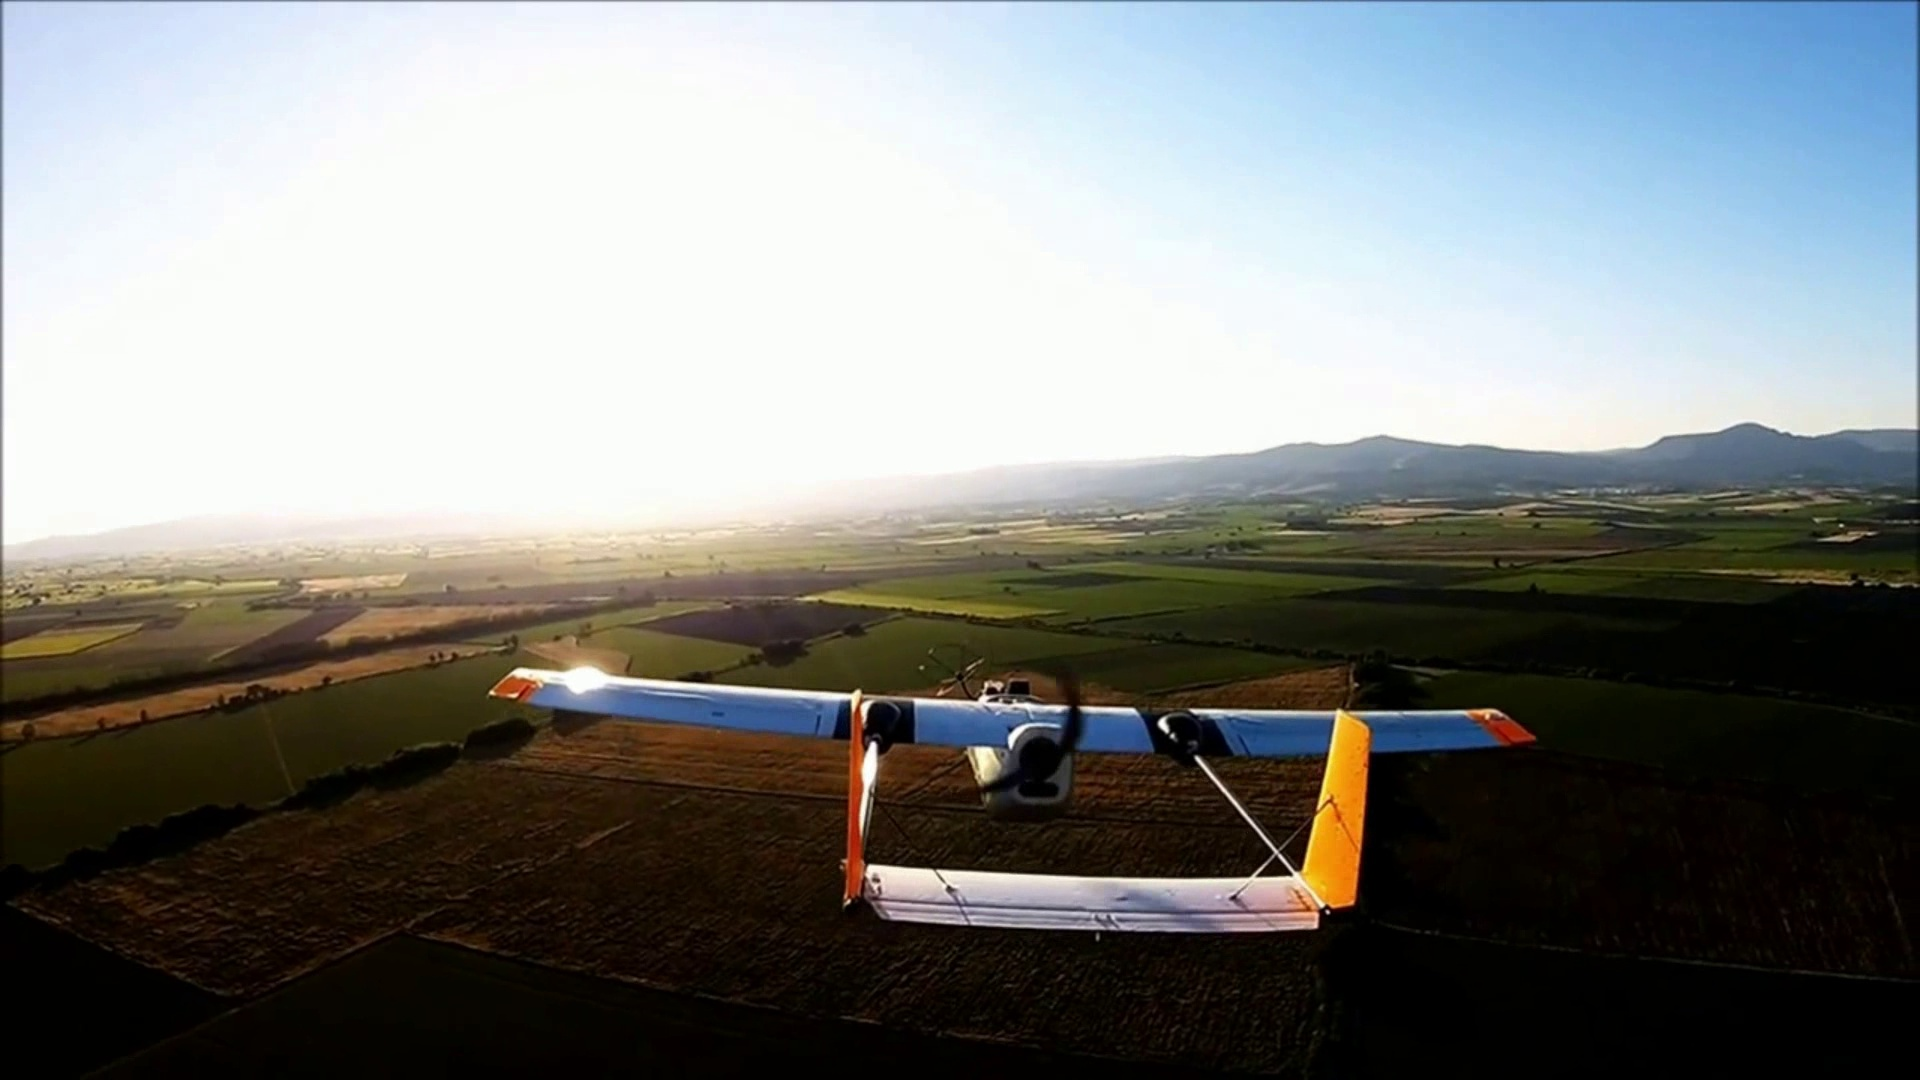airplane: (488, 657, 1540, 938)
